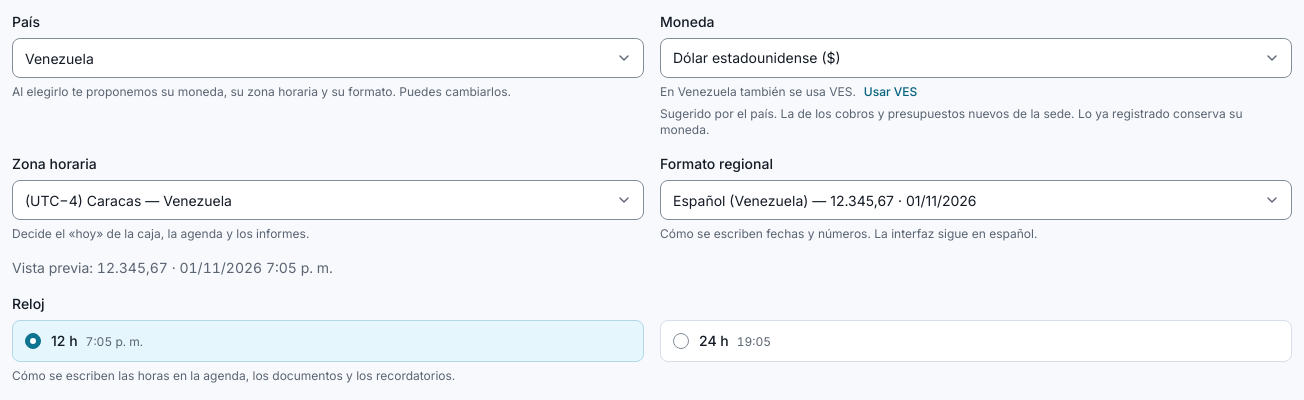
RegionalSettingsFields › offers the other currency in use in the country one click away, only while the currency is the suggested one (V1)
Expected: the text "En Venezuela también se usa VES." is shown, x1=660 y1=84 x2=856 y2=100
Click the button "Usar VES": x=891, y=92 x1=864 y1=84 x2=917 y2=100
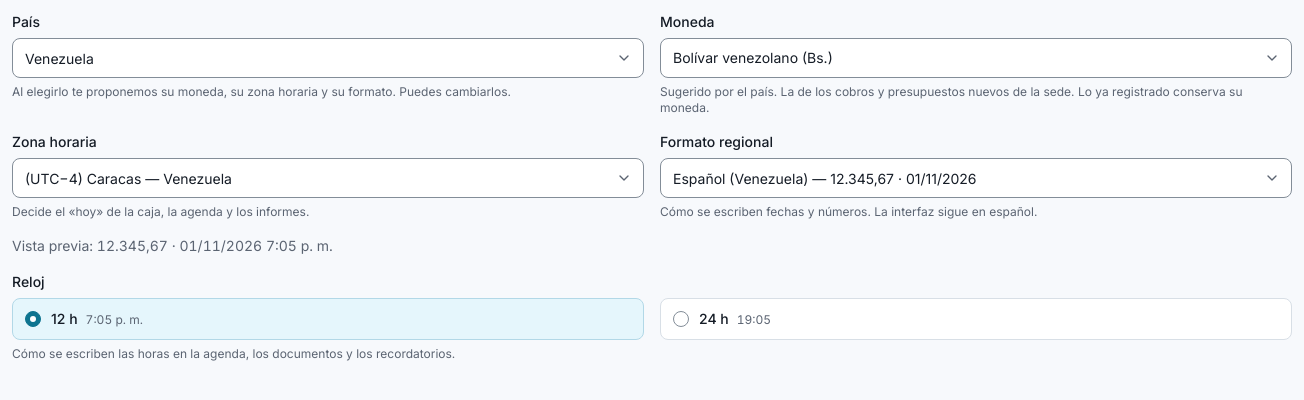
Now the dropdown labelled "Moneda" shows "Bolívar venezolano (Bs.)", box x1=660 y1=38 x2=1292 y2=78
Now the text "En Venezuela también se usa VES." is gone
